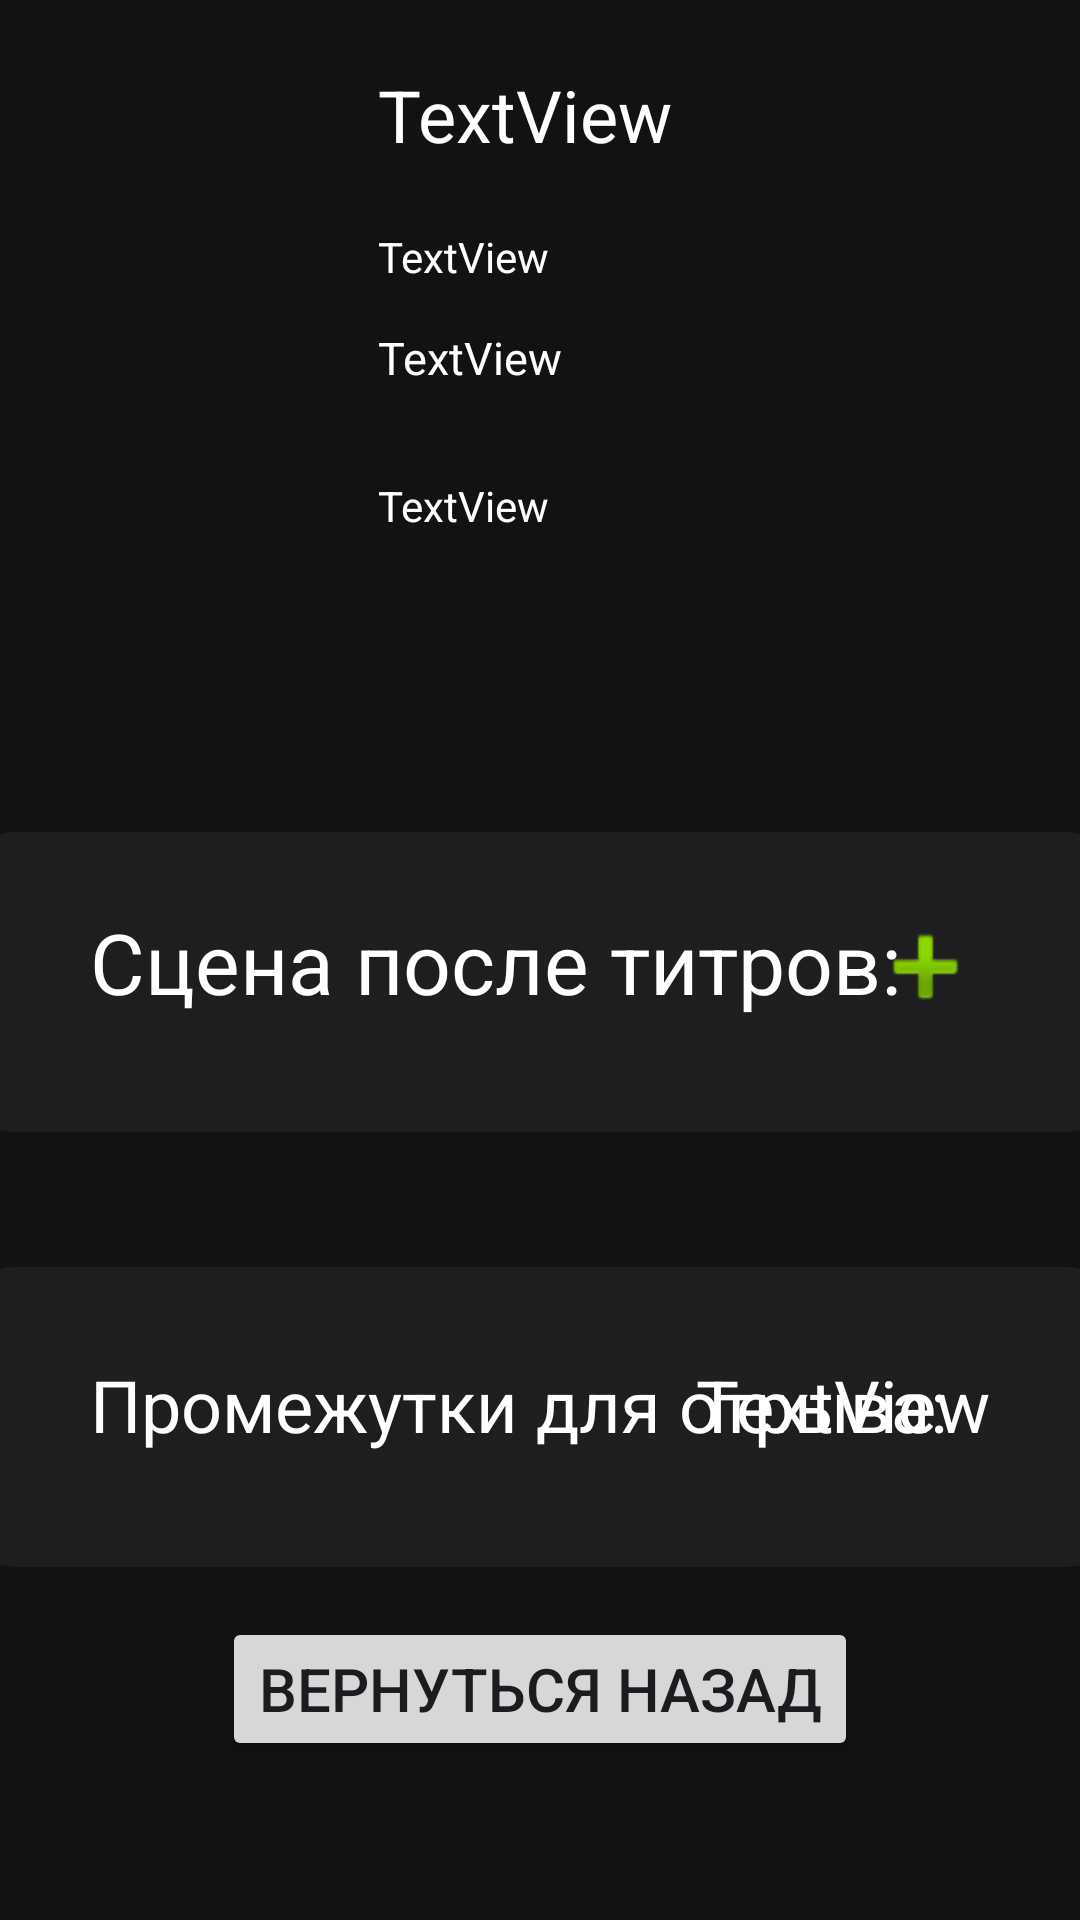

Screen size 1080x1920. Icon name, then its center in pixels as point (x, y):
add: point (922, 966)
